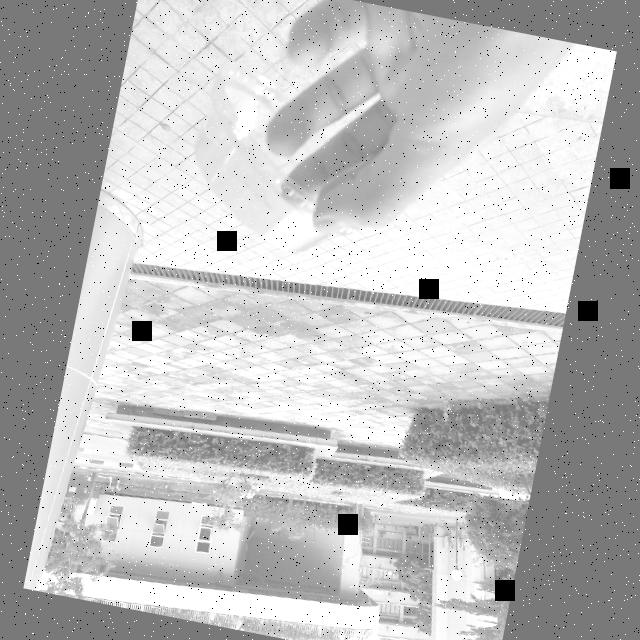plastic_cup_lid: (170, 54, 395, 280)
